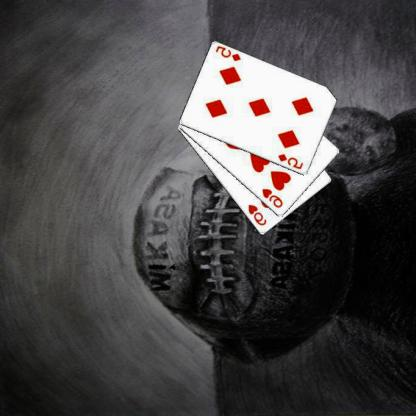5D: (277, 151, 306, 171), (215, 43, 244, 63)
6H: (247, 202, 270, 227)
9H: (261, 186, 286, 209)
